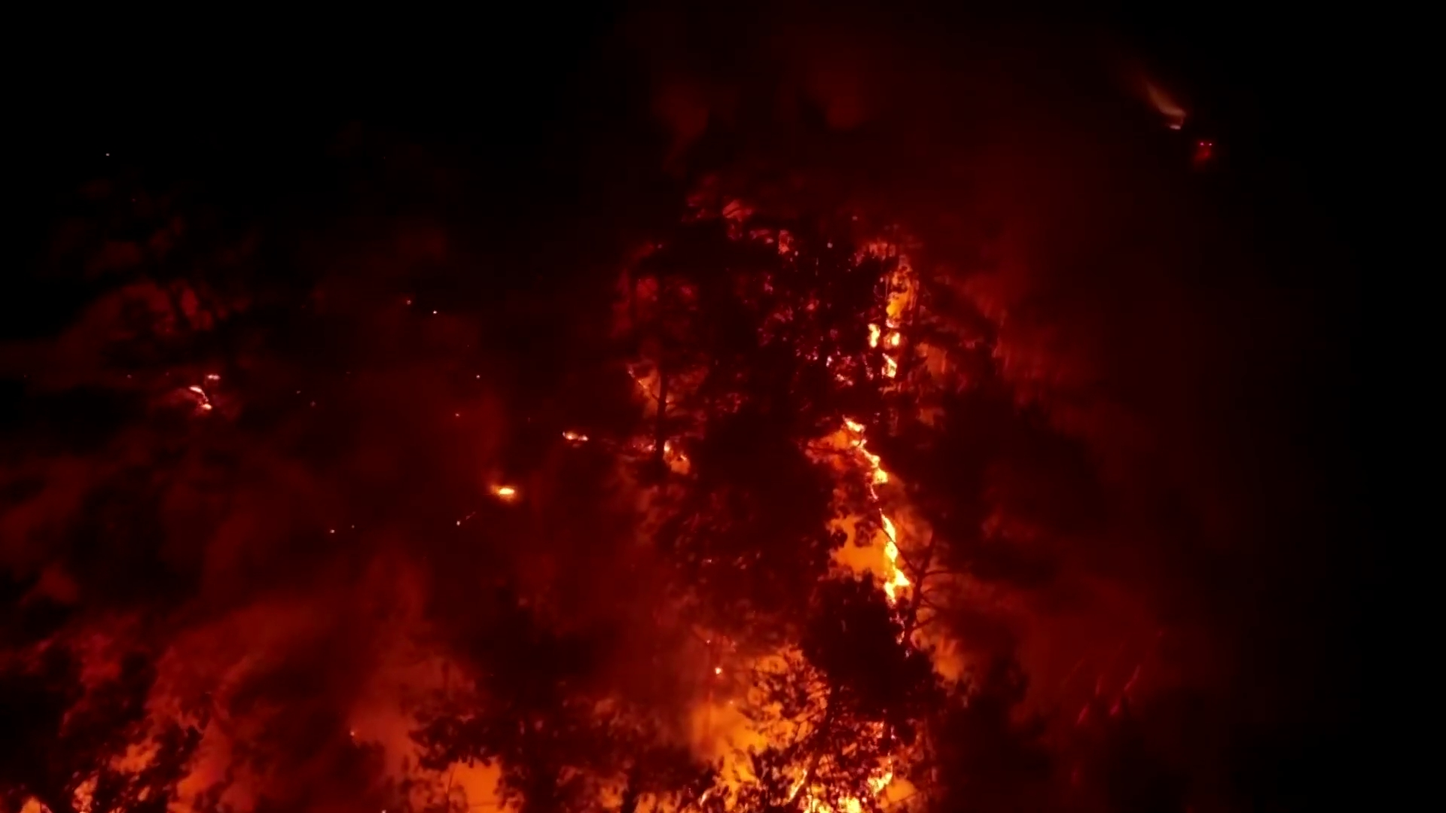forest_fire: (844, 417, 889, 497), (879, 509, 911, 605), (869, 320, 900, 378), (868, 769, 893, 796), (805, 791, 837, 812), (493, 486, 517, 501), (840, 798, 862, 812), (564, 432, 586, 440)
